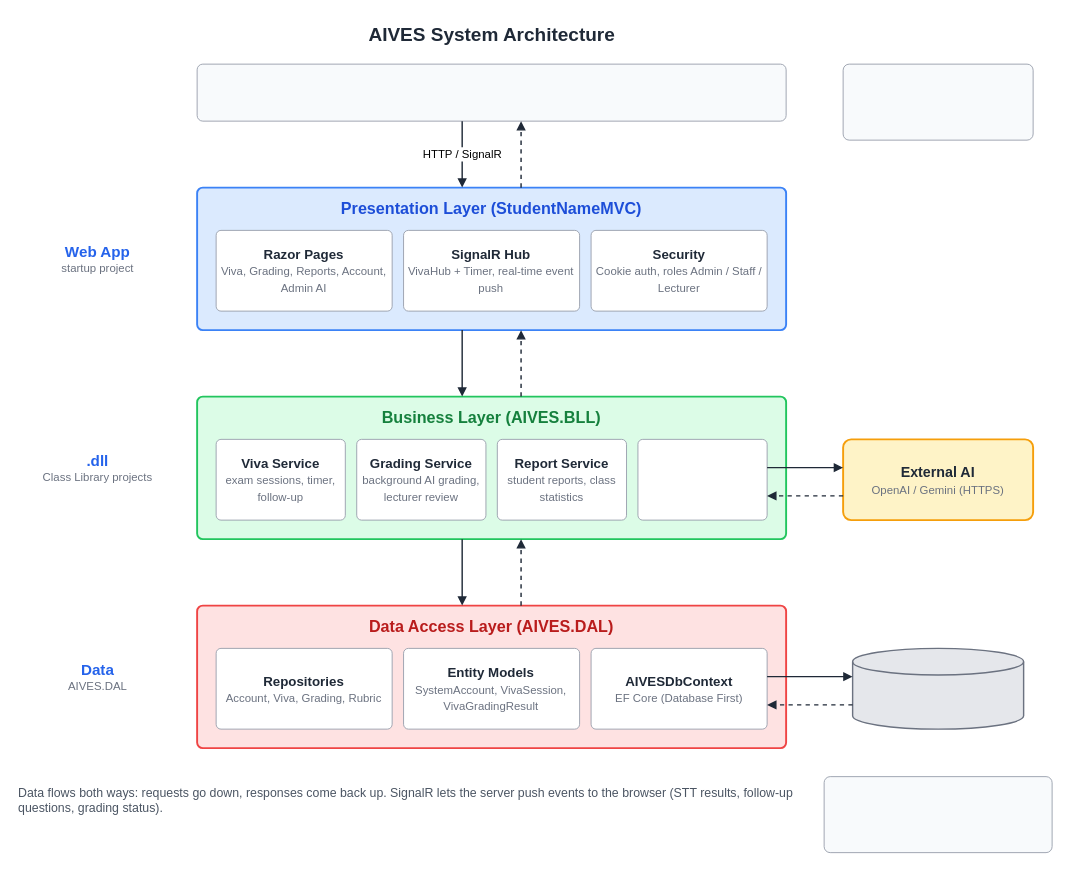
Some shapes in this 1069 by 869 pixel diagram are drawn without their labels. The shapes that lost their labels are listed below. From the top down, each one's centre as x and y in pixels, then its label:
At point (491, 92): "Web Browser (User) HTML, Bootstrap, SignalR client, JS audio recorder".
At point (937, 101): "Legends ━━▶ : Request ┄┄▶ : Response".
At point (702, 479): "AI Providers STT, TTS, LLM OpenAI / Gemini".
At point (937, 688): "SQL Server AIVES (DB)".
At point (937, 814): "Project references Web → BLL, DAL (DAL for DI registration only) BLL → DAL".
